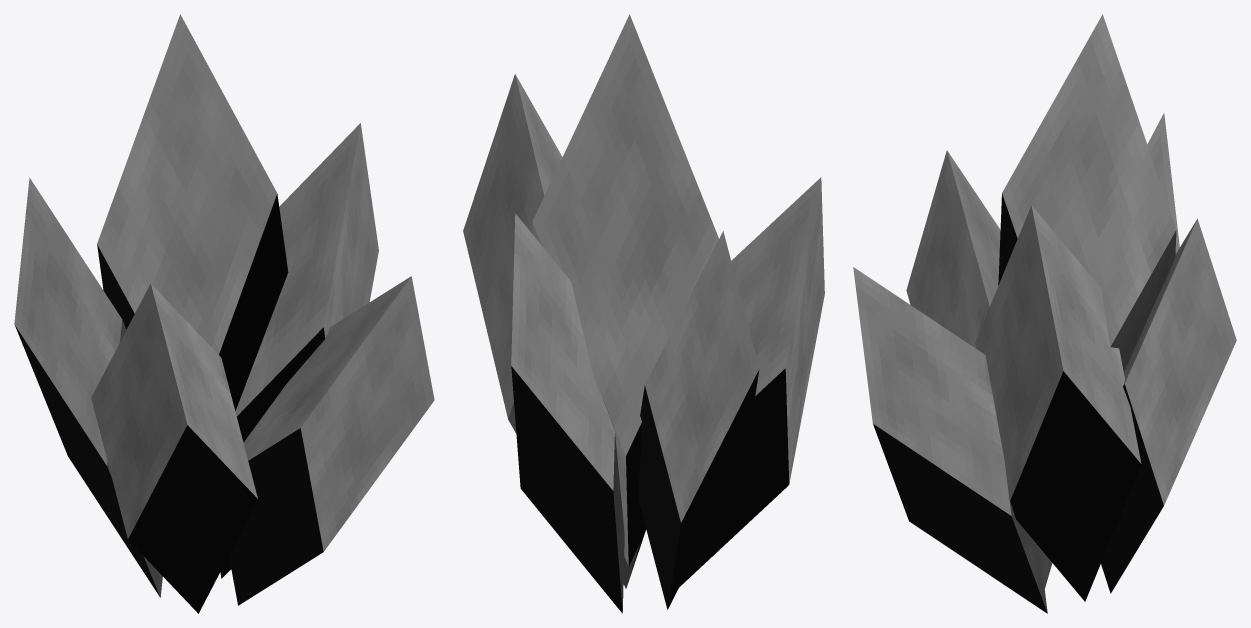
The model's file is air_crystal_cluster.obj.
3 renders of one model, left to right at view 1: azimuth 30°, elevation 25°; view 2: azimuth 150°, elevation 25°; view 3: azimuth 270°, elevation 25°, orthographic. The views are drawn at different scales.
Visible parts, largest first — view 1: part0, part5, part4, part1, part3; view 2: part0, part3, part2, part4, part1; view 3: part1, part5, part0, part2, part4, part3.
Part boxes in pixels (left/top/right/bottom): part0: left=97, top=14, right=288, bottom=410; part5: left=229, top=276, right=434, bottom=605; part4: left=91, top=283, right=257, bottom=613; part1: left=220, top=123, right=378, bottom=578; part3: left=14, top=177, right=162, bottom=597; part0: left=532, top=14, right=718, bottom=566; part3: left=638, top=231, right=759, bottom=609; part2: left=511, top=213, right=624, bottom=613; part4: left=679, top=177, right=824, bottom=586; part1: left=463, top=74, right=562, bottom=433; part1: left=975, top=205, right=1141, bottom=601; part5: left=853, top=267, right=1047, bottom=613; part0: left=998, top=14, right=1176, bottom=371; part2: left=1101, top=218, right=1236, bottom=593; part4: left=906, top=150, right=1052, bottom=588; part3: left=1147, top=113, right=1179, bottom=253.
Bounding box in the file's own units: 0.6008 × 1.03 × 0.6095.
